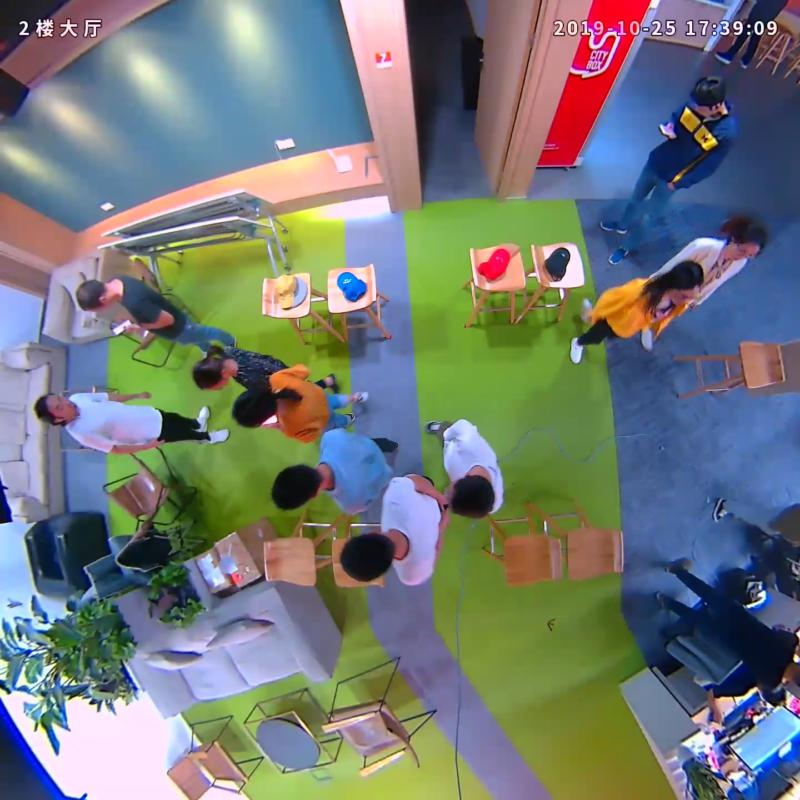head: (340, 533, 395, 581), (271, 463, 324, 511), (445, 474, 496, 520), (231, 384, 279, 428), (668, 259, 704, 307), (727, 222, 767, 262), (689, 75, 726, 117), (33, 393, 79, 423), (193, 356, 231, 391), (76, 279, 113, 313)
